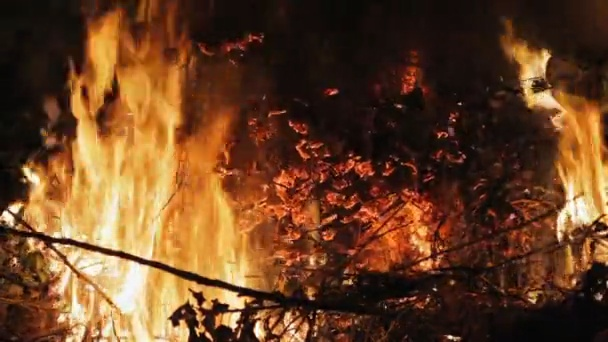fire: (4, 16, 246, 342), (513, 44, 608, 239), (253, 307, 308, 342)
